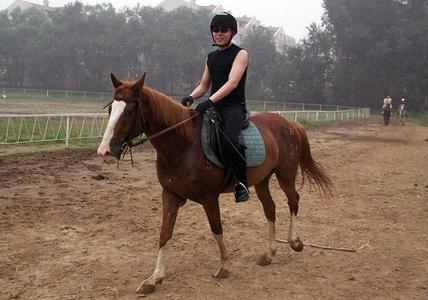person: (181, 13, 253, 202)
